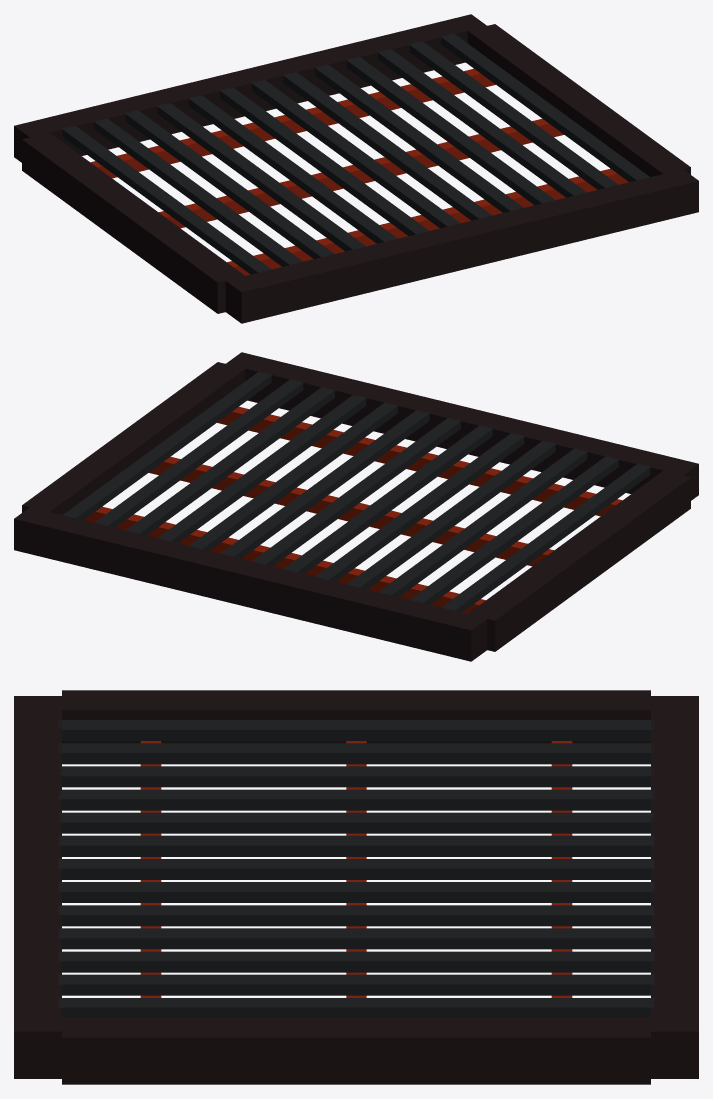
Rendered from metal_grate_platform.obj.
3 views of the same model, one above another, from view 1: azimuth 30°, elevation 25°; view 2: azimuth 150°, elevation 25°; view 3: azimuth 270°, elevation 25° (orthographic). The views are drawn at different scales.
Visible parts, largest first — view 1: metal_grate_platform; view 2: metal_grate_platform; view 3: metal_grate_platform.
Boxes of the visible parts, x1,y1,x2,y2 form: metal_grate_platform: (14, 14, 698, 323); metal_grate_platform: (14, 352, 698, 661); metal_grate_platform: (14, 690, 698, 1084).
Bounding box in the file's own units: 12 × 0.76 × 10.
